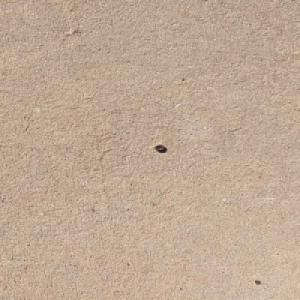Nut: (153, 143, 165, 151)
